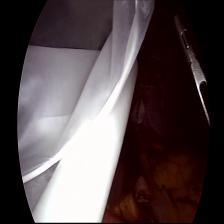Grasper: (174, 16, 214, 134)
Specimen Bag: (12, 0, 156, 224)
